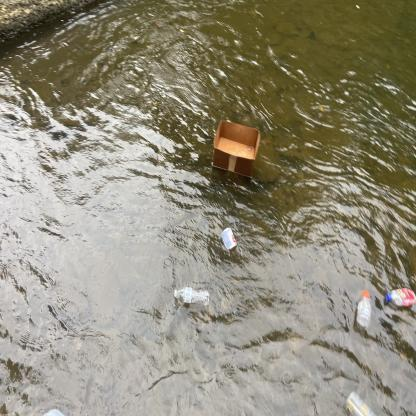trash: (207, 117, 266, 179), (170, 280, 212, 312), (342, 386, 384, 416), (350, 285, 376, 331), (381, 280, 416, 312), (213, 223, 242, 258), (37, 403, 68, 416)
